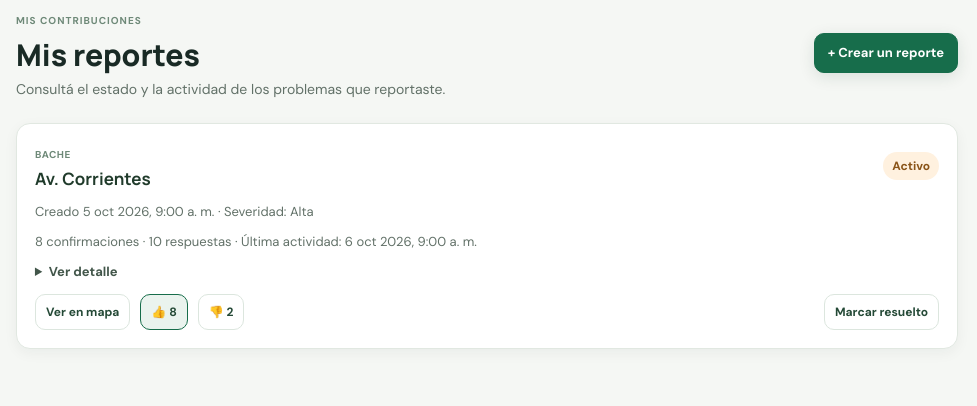
MyReports › lets an owner resolve and reopen a report with optimistic server state refresh
Click the button "Marcar resuelto" at [881, 312], box [824,294,939,330]
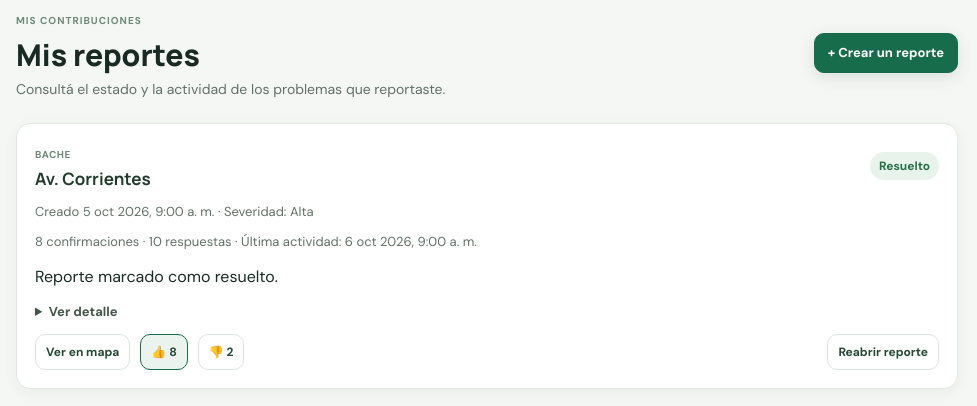
Now the button "Reabrir reporte" is shown, box [827,334,939,370]
Now the message reads "Reporte marcado como resuelto.", box [35,266,278,287]
